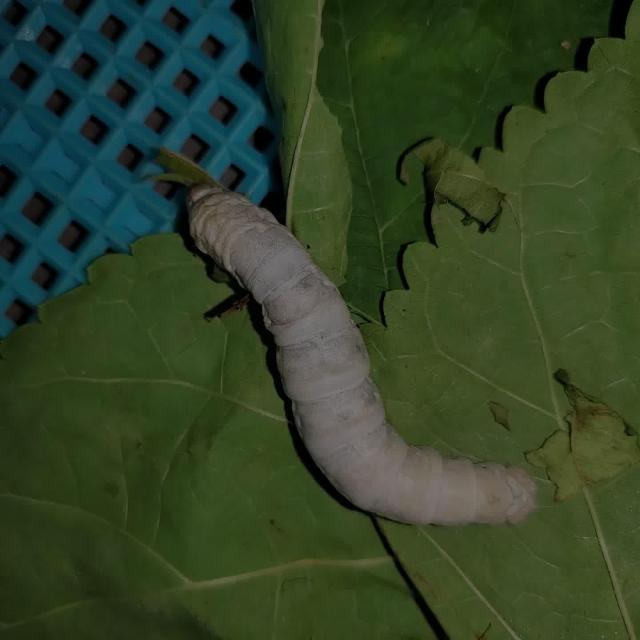Grasserie: (162, 147, 591, 548)
